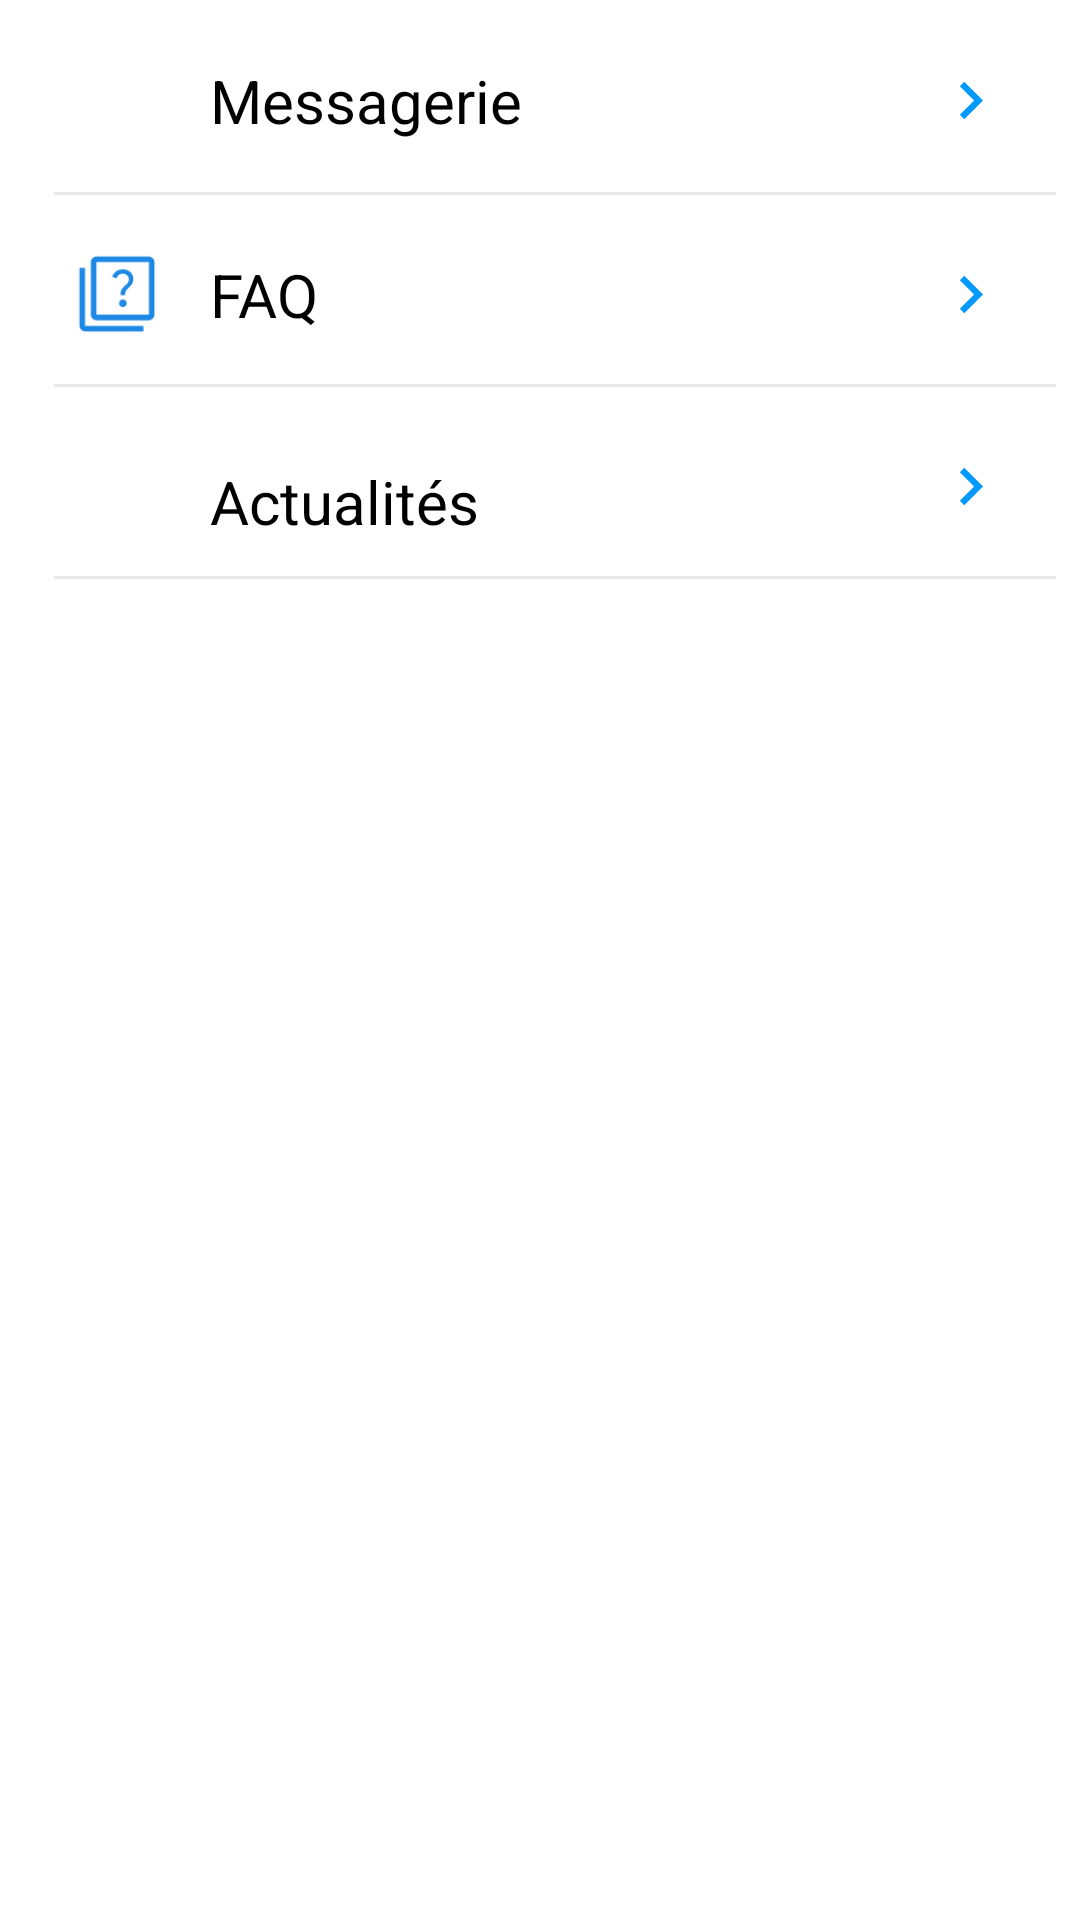

Locate icon controls on the screen. Image size 1080px x 1920px, boxes as (x1, y1, x2, y2).
message quiz: (79, 256, 155, 332)
navigate next: (960, 82, 983, 119), (960, 276, 983, 313), (960, 468, 983, 505)
